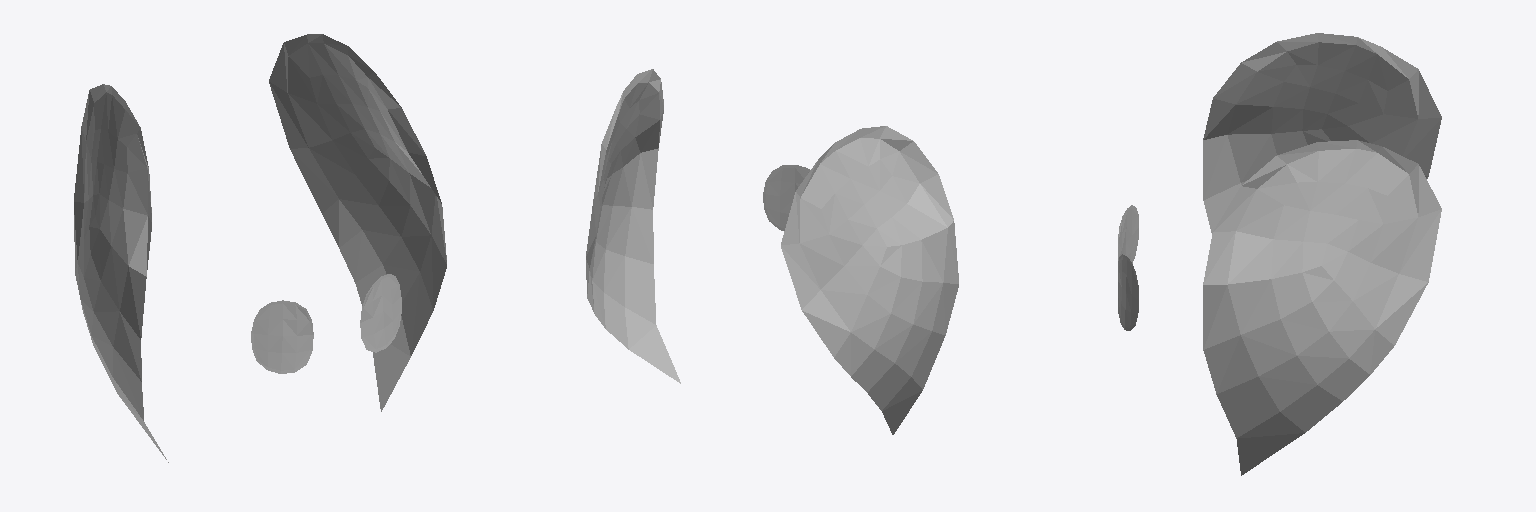
Rendered from headHigh.obj.
3 renders of one model, left to right at view 1: azimuth 30°, elevation 25°; view 2: azimuth 150°, elevation 25°; view 3: azimuth 270°, elevation 25°, orthographic.
Parts seen in each view (by area): view 1: Head.003; view 2: Head.003; view 3: Head.003.
Part boxes in pixels (bbox=[...]): Head.003: bbox=[74, 34, 446, 462]; Head.003: bbox=[586, 69, 958, 434]; Head.003: bbox=[1118, 33, 1441, 475].
Size of the model in its own units: 0.1908 by 0.1972 by 0.1719.